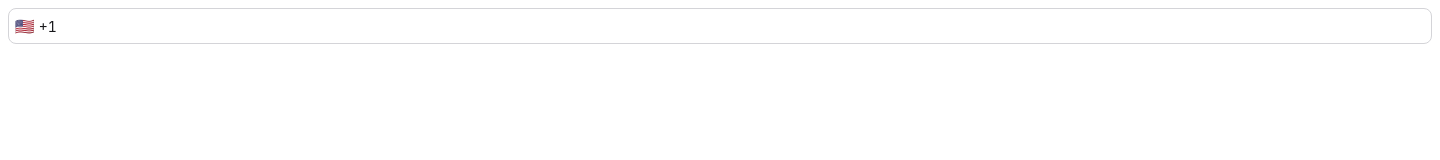
Test case: PhoneInput › deletes the digit after a formatting character on forward delete
In the field named "Phone": (720, 26) x1=8 y1=8 x2=1432 y2=44, type "2025550123"
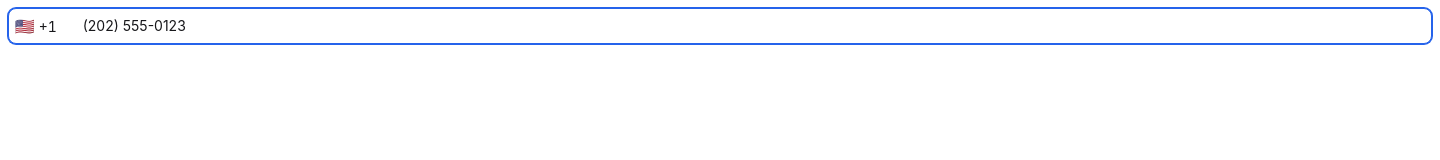
Press Delete
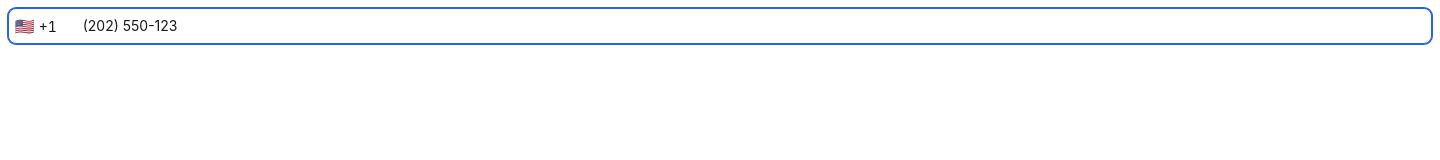
Expected: the field named "Phone" holds "(202) 550-123", x1=8 y1=8 x2=1432 y2=44
